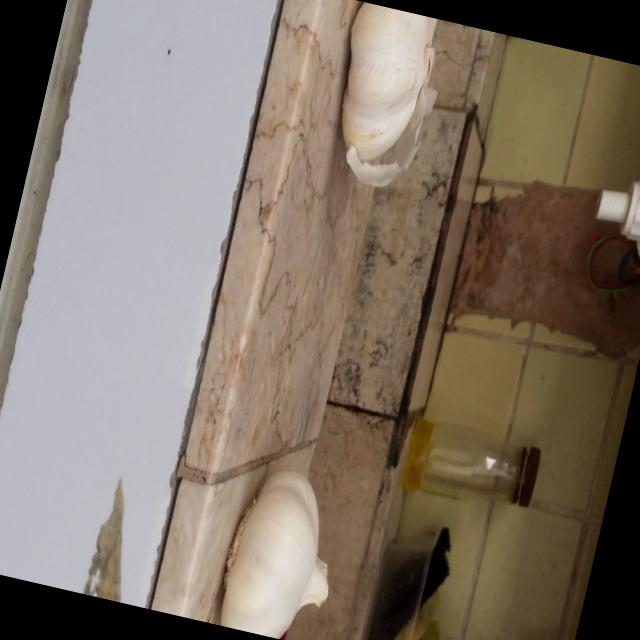garlic: (208, 455, 356, 640), (315, 1, 450, 200)
